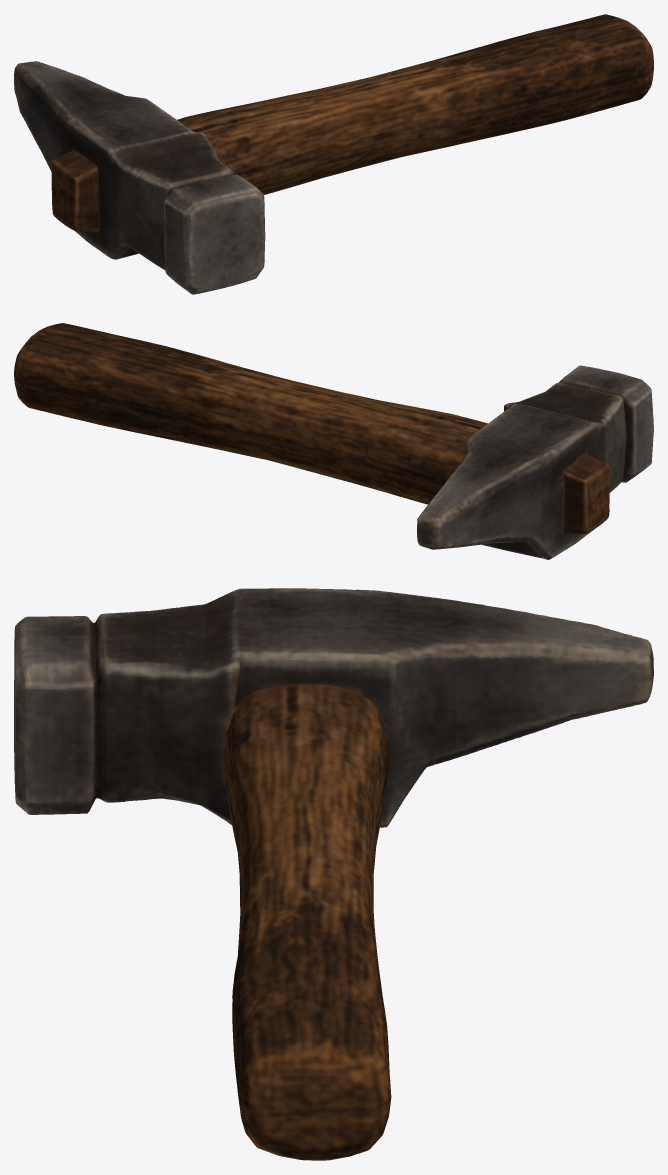
Rendered from hammer-optimized.glb.
3 renders of one model, top to bottom at view 1: azimuth 30°, elevation 25°; view 2: azimuth 150°, elevation 25°; view 3: azimuth 270°, elevation 25°, orthographic. The views are drawn at different scales.
Parts seen in each view (by area): view 1: world; view 2: world; view 3: world.
Boxes of the visible parts, bbox=[...] form: world: bbox=[14, 14, 653, 294]; world: bbox=[14, 323, 653, 559]; world: bbox=[14, 588, 653, 1160].
Bounding box in the file's own units: 1 × 0.1867 × 0.5971.
1 material, 1 textured.
